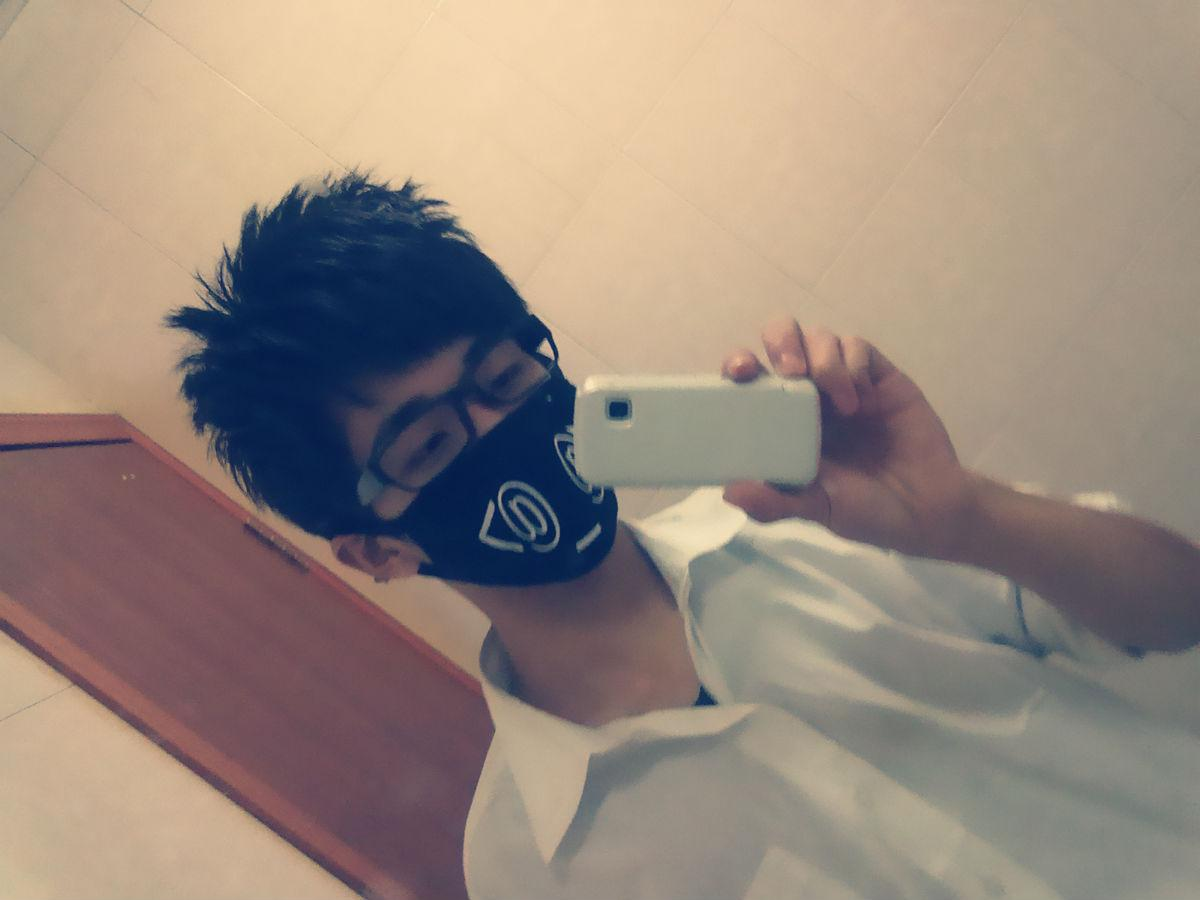OK: (352, 326, 616, 587)
